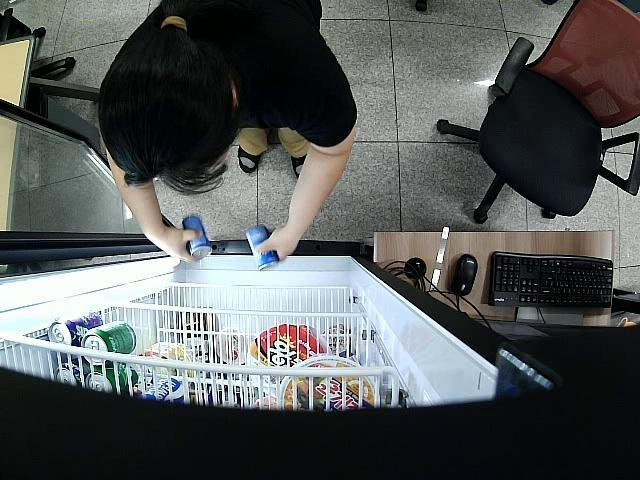15_letsbe: (246, 224, 282, 272), (181, 215, 210, 257)
